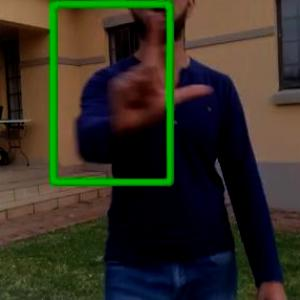land_hand: (100, 0, 213, 146)
